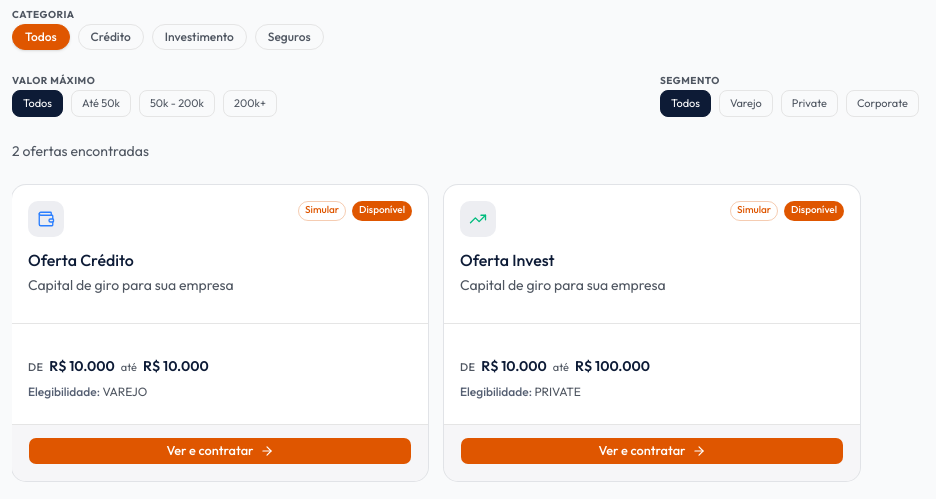
Scenario: OfferList › Rendering and filters › filters by value range
// Clicks in "Até 50k"
What coordinates should you click on to do the following:
click the button "Até 50k"
I would click on:
 (101, 103)
Its box is [71,90,131,116].
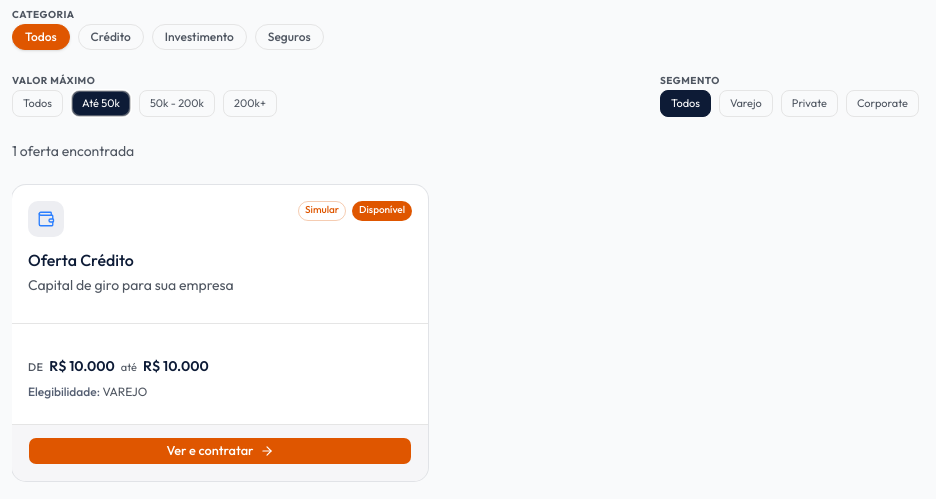
Check: the text "Oferta Crédito" is shown, box [28,250,134,270]
Check: the text "Oferta Invest" is gone
